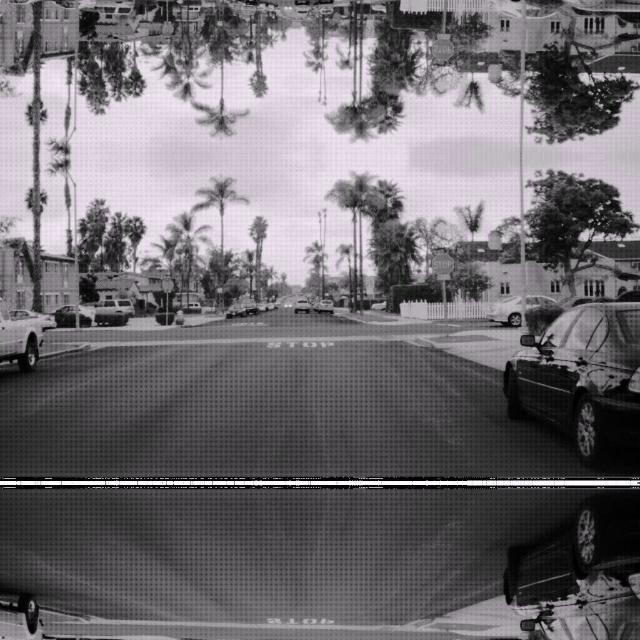stop: (431, 38, 454, 61), (431, 252, 454, 274)
